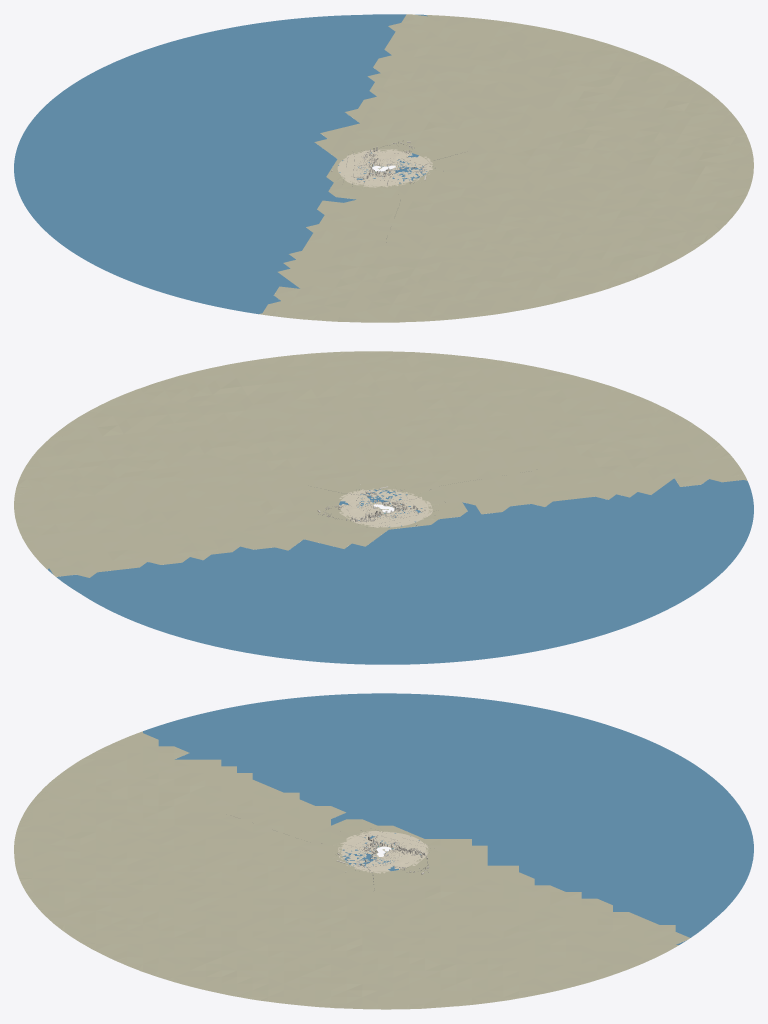
File: backdrop.glb
The picture shows the model from 3 angles, top to bottom: view 1: azimuth 30°, elevation 25°; view 2: azimuth 150°, elevation 25°; view 3: azimuth 270°, elevation 25°; orthographic projection.
Parts seen in each view (by area): view 1: backdrop_horizon_land, backdrop_horizon_water, backdrop_terrain_sand; view 2: backdrop_horizon_land, backdrop_horizon_water, backdrop_terrain_sand; view 3: backdrop_horizon_land, backdrop_horizon_water, backdrop_terrain_sand.
Boxes of the visible parts, x1,y1,x2,y2 form: backdrop_horizon_land: [259, 14, 753, 322]; backdrop_horizon_water: [14, 14, 427, 314]; backdrop_terrain_sand: [337, 149, 432, 187]; backdrop_horizon_land: [14, 351, 747, 577]; backdrop_horizon_water: [47, 478, 753, 664]; backdrop_terrain_sand: [339, 488, 432, 527]; backdrop_horizon_land: [14, 731, 689, 1009]; backdrop_horizon_water: [143, 693, 753, 944]; backdrop_terrain_sand: [338, 831, 428, 873].
Size of the model in its own units: 71806 by 374 by 70847.
